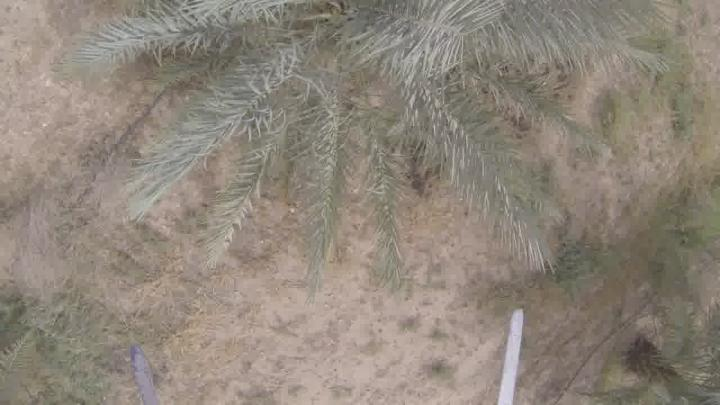Date-Palm-Crown: (204, 0, 496, 156)
